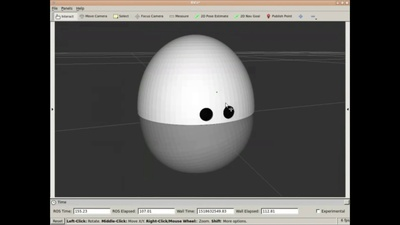mira_robot: (137, 34, 254, 173)
